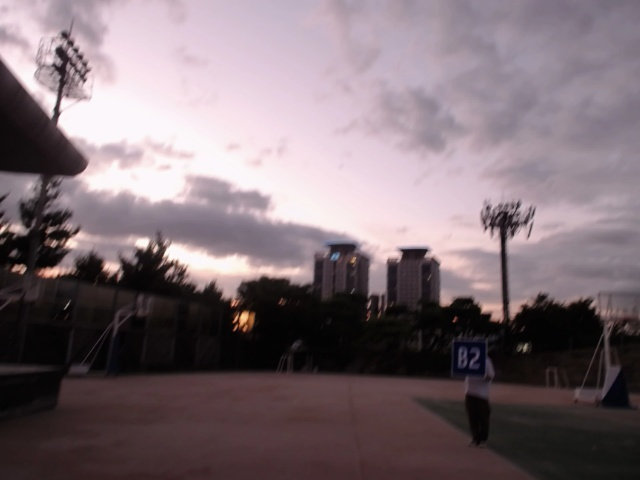delivery_b2: (450, 338, 488, 379)
